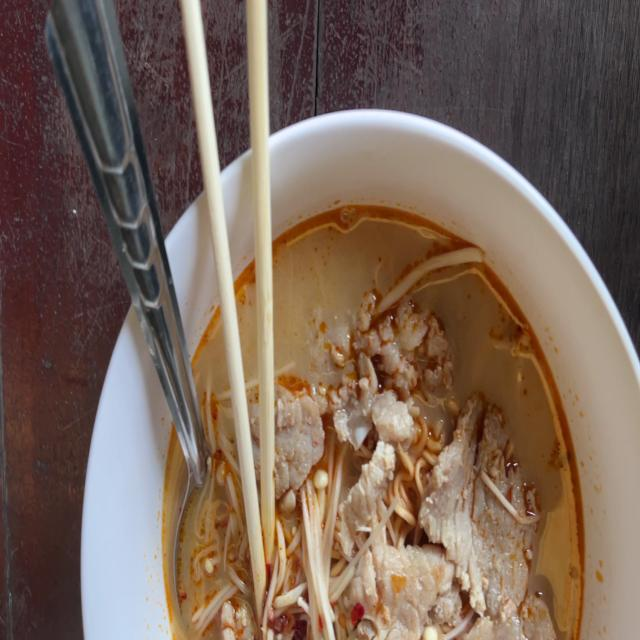noodle: (164, 208, 586, 640)
